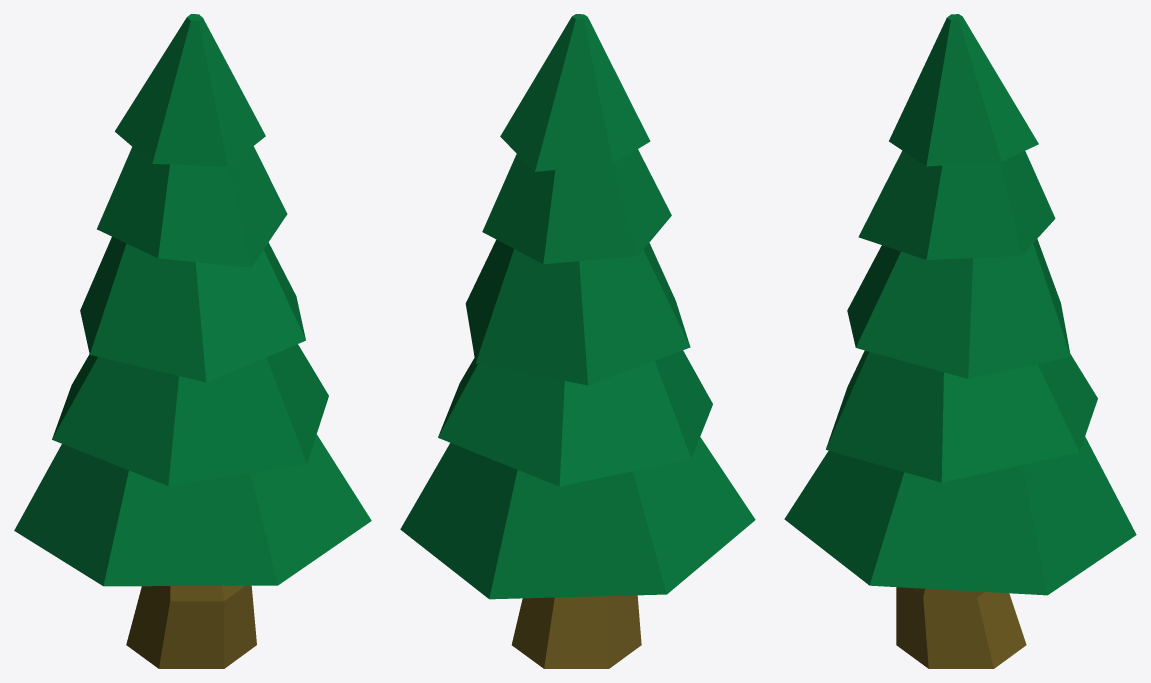
File: tree.fbx
3 renders of one model, left to right at view 1: azimuth 30°, elevation 25°; view 2: azimuth 150°, elevation 25°; view 3: azimuth 270°, elevation 25°, orthographic.
Visible parts, largest first — view 1: 실린더; view 2: 실린더; view 3: 실린더.
Boxes of the visible parts, x1,y1,x2,y2 form: 실린더: [14, 14, 371, 668]; 실린더: [400, 14, 755, 668]; 실린더: [784, 14, 1136, 668].
Bounding box in the file's own units: 407 × 914 × 464.
